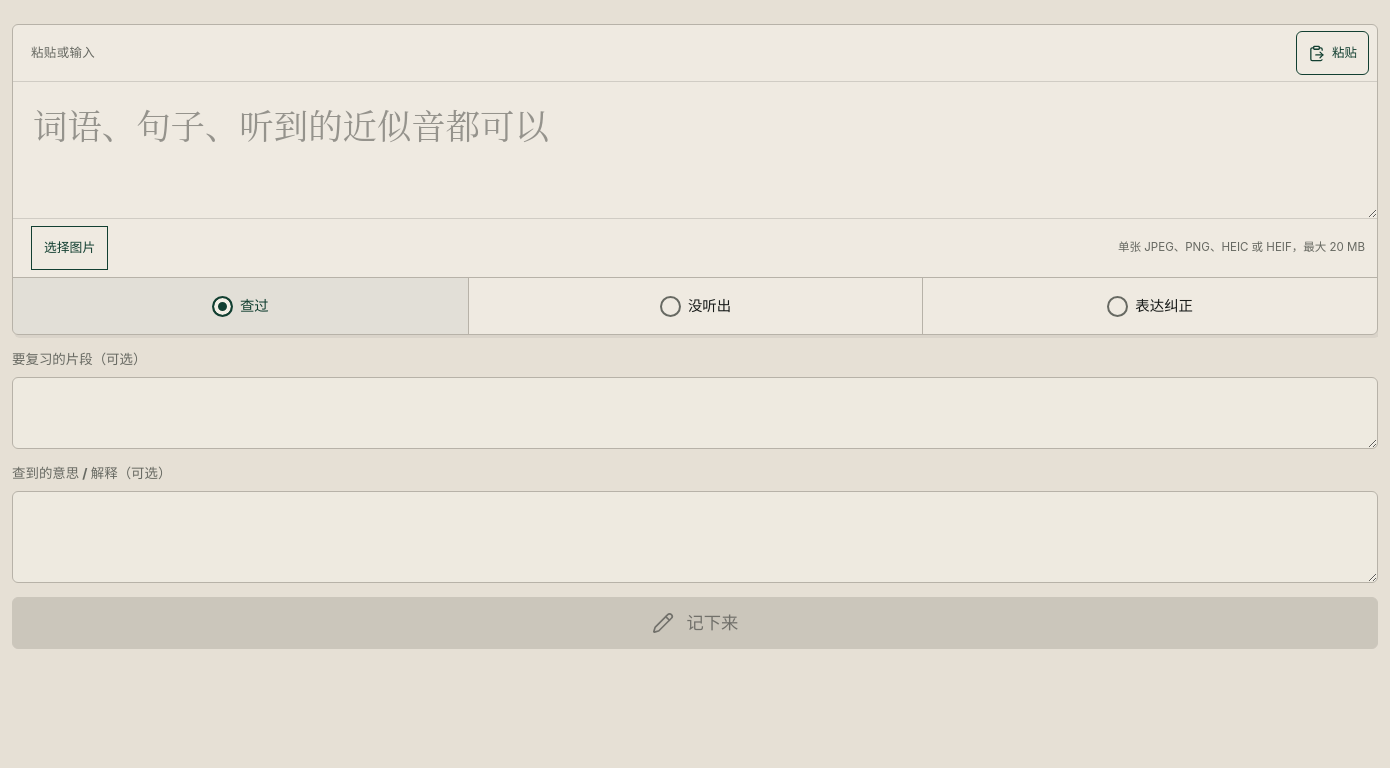
Test: CaptureComposer › shows the correction textarea only for the correction category
Expected: the field labelled "纠正后的表达" is not shown
Step 1. Click the radio button labelled "表达纠正" → (1118, 306), box [1107,296,1128,316]
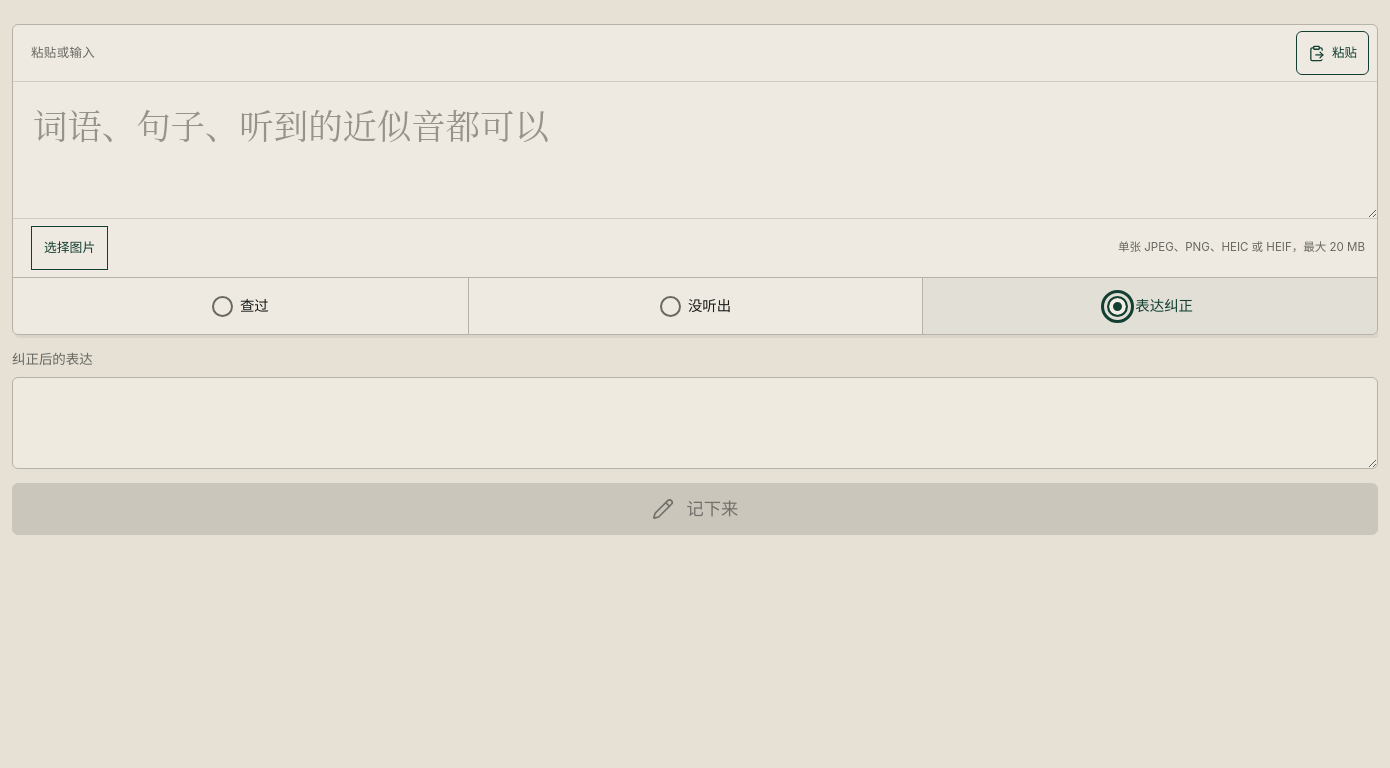
Step 2. Click the radio button labelled "没听出" → (670, 306), box [660,296,681,316]
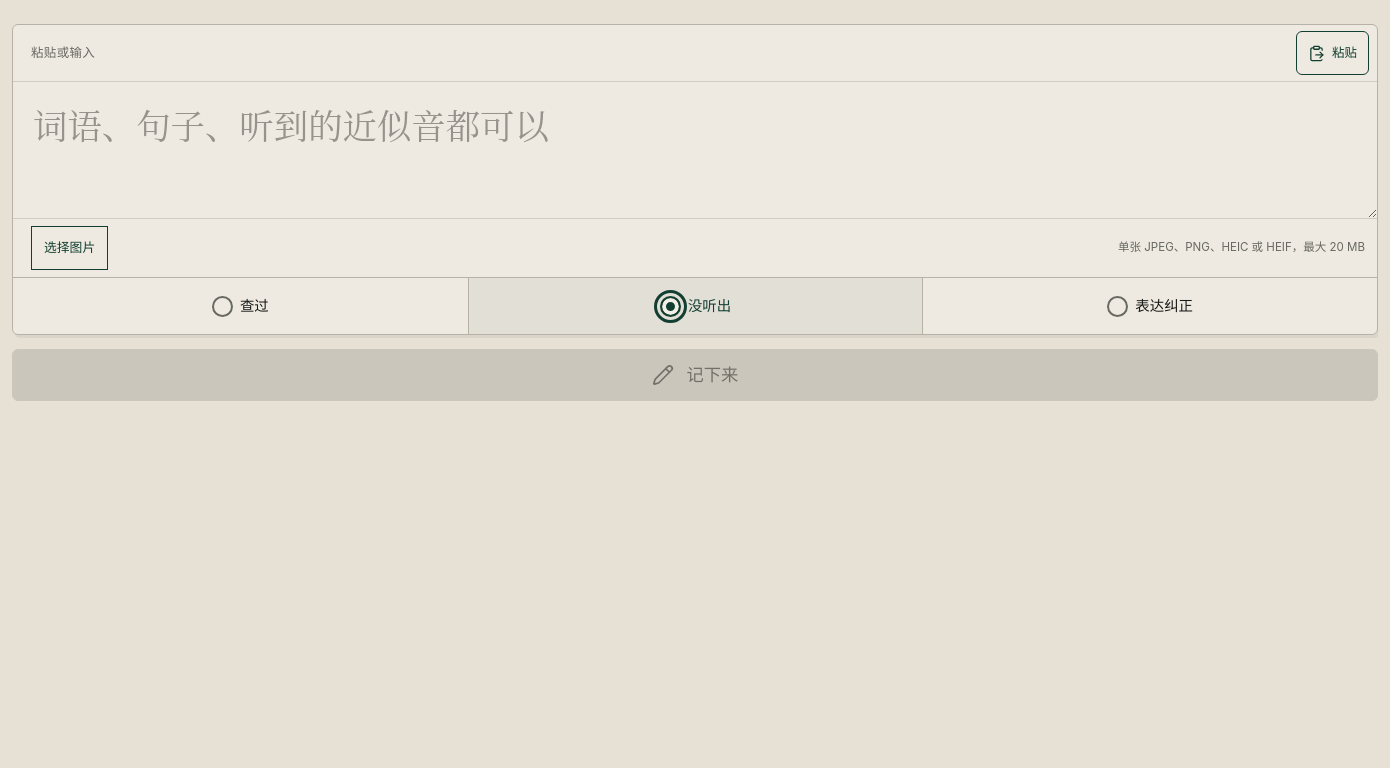
Expected: the label "纠正后的表达" is gone
